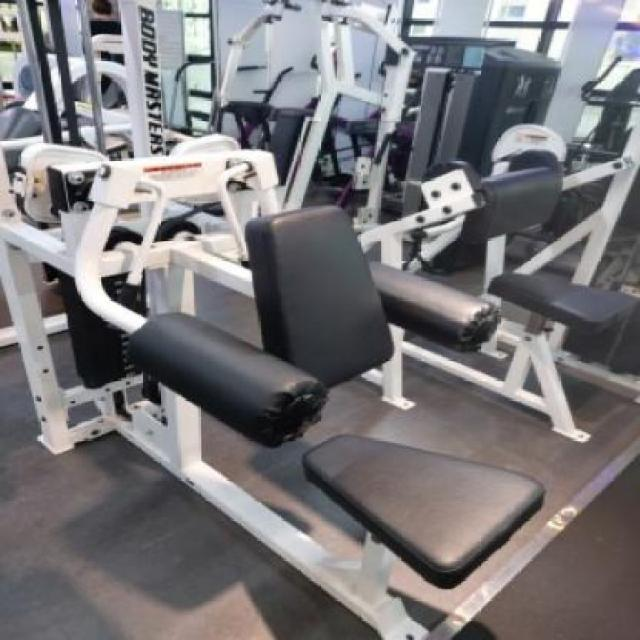lateral raises machine: (0, 137, 549, 640)
